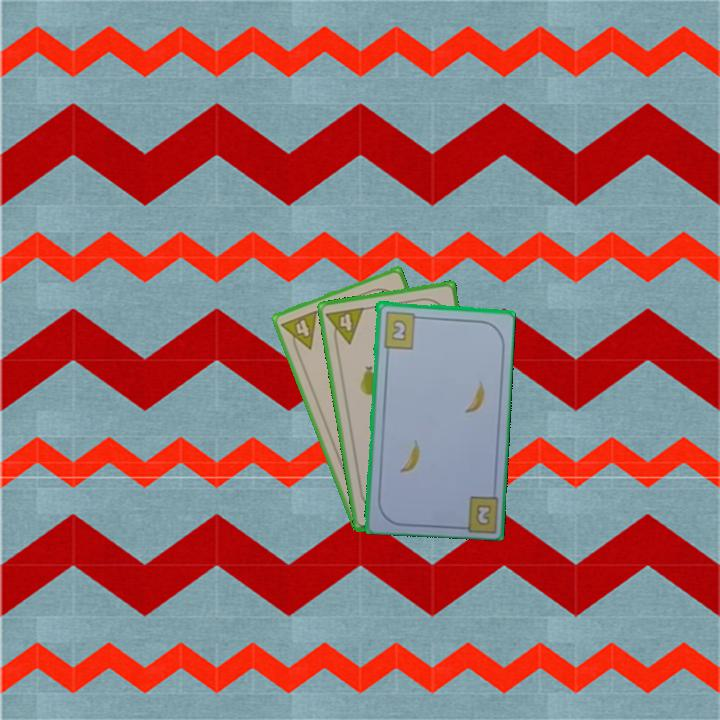2b: (380, 308, 424, 351), (474, 503, 492, 526)
4p: (277, 307, 320, 357), (323, 304, 367, 349)
